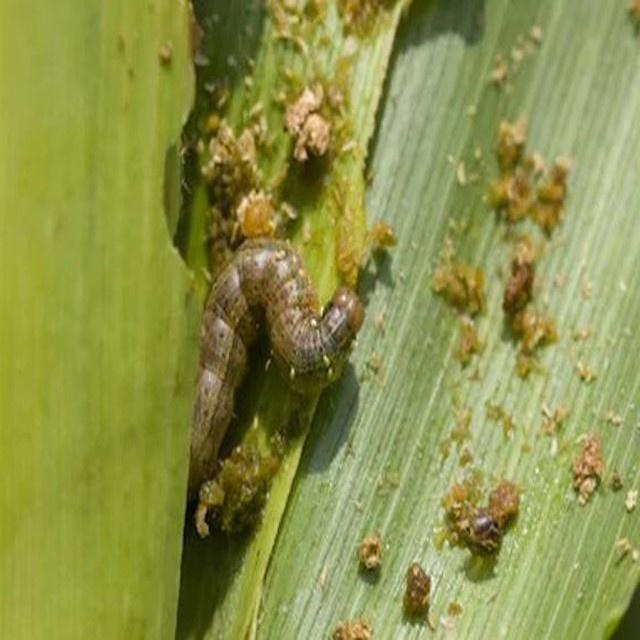gusano_cogollero: (172, 227, 364, 513)
